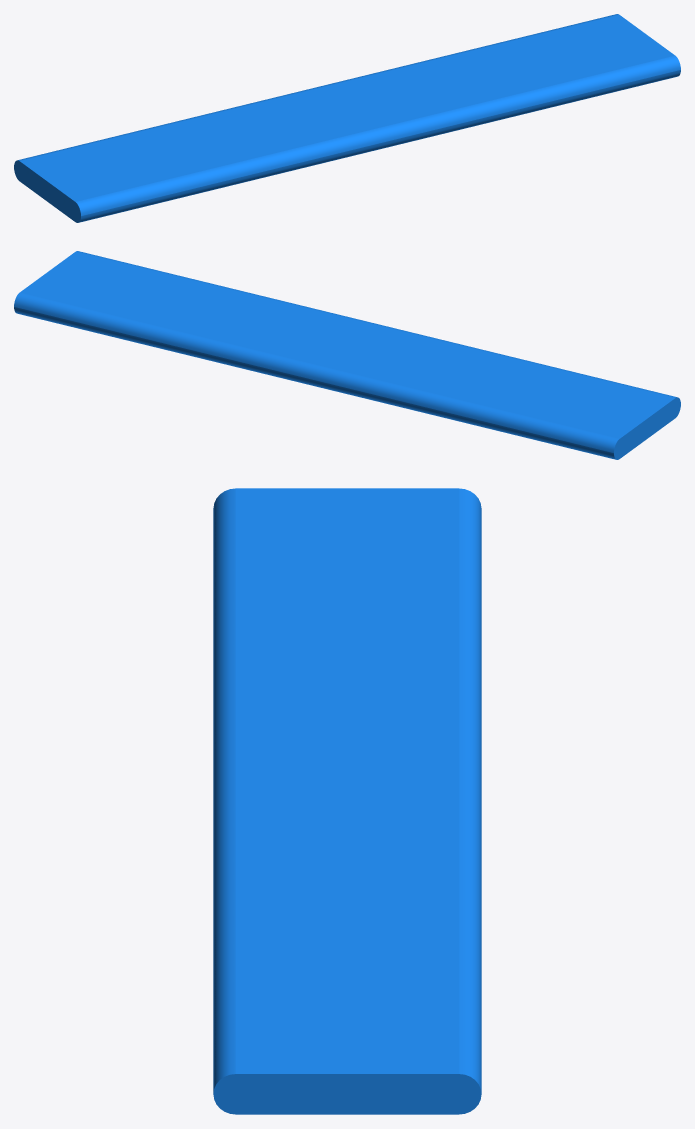
File: original-33.obj
The picture shows the model from 3 angles, top to bottom: view 1: azimuth 30°, elevation 25°; view 2: azimuth 150°, elevation 25°; view 3: azimuth 270°, elevation 25°; orthographic projection. The views are drawn at different scales.
Visible parts, largest first — view 1: shelf_boards2/shelf_boards/mesh67/mesh67-geometry#mesh67-geometr; view 2: shelf_boards2/shelf_boards/mesh67/mesh67-geometry#mesh67-geometr; view 3: shelf_boards2/shelf_boards/mesh67/mesh67-geometry#mesh67-geometr.
Part boxes in pixels (x1,y1,x2,y2): shelf_boards2/shelf_boards/mesh67/mesh67-geometry#mesh67-geometr: (14,14,680,222); shelf_boards2/shelf_boards/mesh67/mesh67-geometry#mesh67-geometr: (14,251,680,459); shelf_boards2/shelf_boards/mesh67/mesh67-geometry#mesh67-geometr: (213,488,481,1114).
Size of the model in its own units: 0.8132 by 0.0262 by 0.1574.
